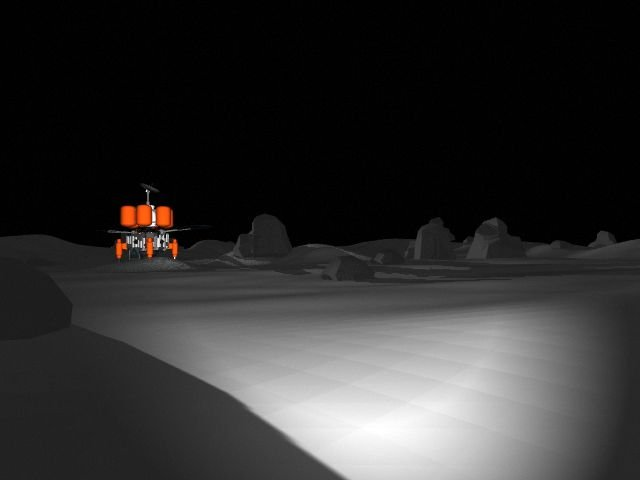homebase: (104, 181, 194, 265)
